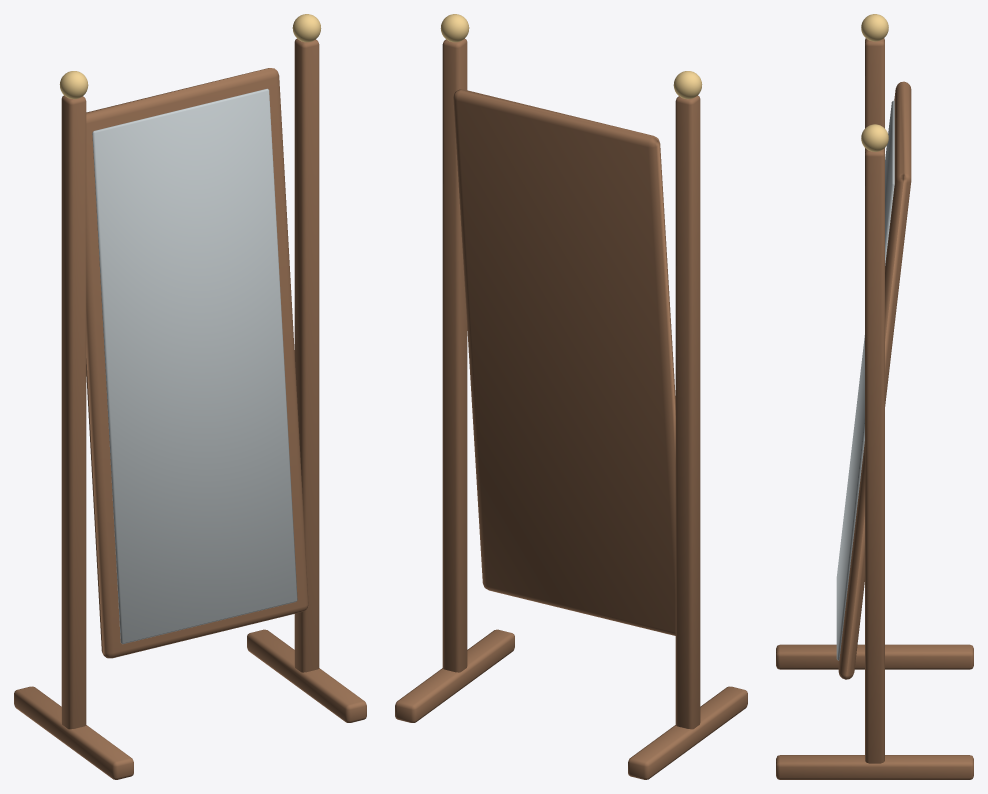
Rendered from v2_cheval_mirror.fbx.
The picture shows the model from 3 angles, left to right: view 1: azimuth 30°, elevation 25°; view 2: azimuth 150°, elevation 25°; view 3: azimuth 270°, elevation 25°; orthographic projection. The views are drawn at different scales.
Parts seen in each view (by area): view 1: MirrorGlass, MirrorFrame, Post-1, Post1, Foot-1.001, Foot1.002, Finial1, Finial-1; view 2: MirrorFrame, Post-1, Post1, Foot-1.001, Foot1.002, Finial1, Finial-1; view 3: Post1, MirrorFrame, Foot1.002, MirrorGlass, Foot-1.001, Post-1, Finial1, Finial-1.
Boxes of the visible parts, <box> form: MirrorGlass: <box>92,88,297,644</box>; MirrorFrame: <box>86,68,308,658</box>; Post-1: <box>61,95,86,729</box>; Post1: <box>294,39,319,672</box>; Foot-1.001: <box>14,686,133,779</box>; Foot1.002: <box>247,629,366,722</box>; Finial1: <box>292,14,321,42</box>; Finial-1: <box>59,71,88,99</box>; MirrorFrame: <box>453,89,675,635</box>; Post-1: <box>675,95,700,729</box>; Post1: <box>442,39,467,672</box>; Foot-1.001: <box>628,686,747,779</box>; Foot1.002: <box>395,629,514,722</box>; Finial1: <box>440,14,469,42</box>; Finial-1: <box>673,71,702,99</box>; Post1: <box>865,149,884,763</box>; MirrorFrame: <box>838,81,911,679</box>; Foot1.002: <box>776,755,973,779</box>; MirrorGlass: <box>836,100,894,660</box>; Foot-1.001: <box>776,644,973,669</box>; Post-1: <box>865,38,884,149</box>; Finial1: <box>861,124,888,151</box>; Finial-1: <box>861,14,888,41</box>.
Bounding box in the file's own units: 0.73 × 1.81 × 0.5.
